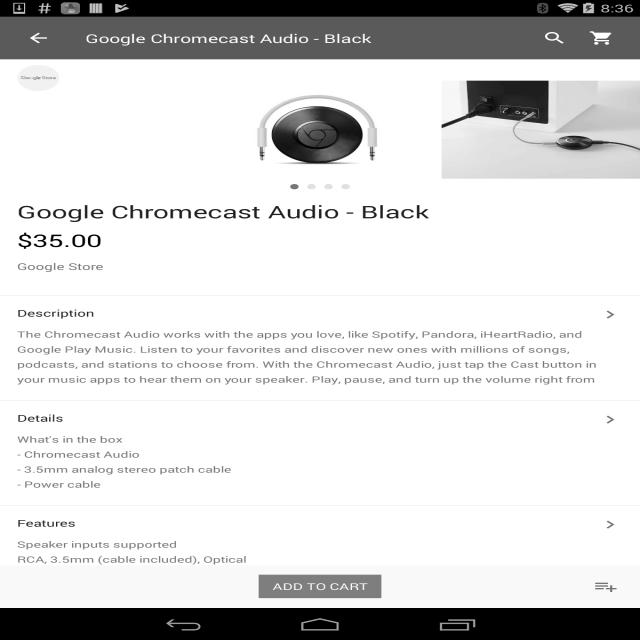Button: (252, 570, 388, 602)
ImageButton: (571, 565, 640, 607), (9, 17, 68, 59)
ImageView: (216, 80, 424, 178), (441, 80, 640, 178), (17, 65, 60, 91), (597, 306, 623, 322), (597, 412, 623, 428), (597, 516, 623, 532), (589, 30, 614, 46), (290, 184, 299, 189), (307, 184, 316, 189), (324, 184, 333, 189), (341, 184, 350, 189)
TextView: (17, 328, 623, 390), (17, 433, 623, 495), (17, 538, 623, 600), (0, 200, 640, 223), (17, 516, 597, 538), (17, 307, 597, 328), (17, 412, 597, 433), (85, 30, 372, 46), (17, 229, 102, 252), (529, 22, 580, 54), (17, 257, 108, 273), (591, 22, 621, 33)
